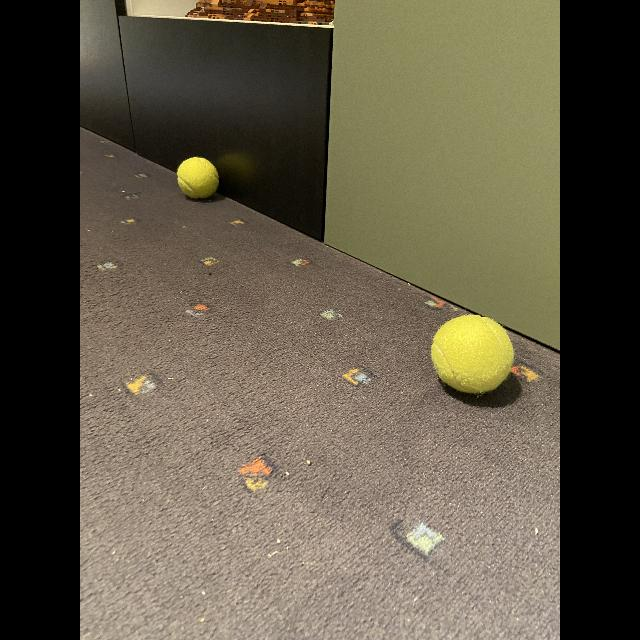Tennisball: (431, 314, 514, 394), (177, 157, 219, 199)
